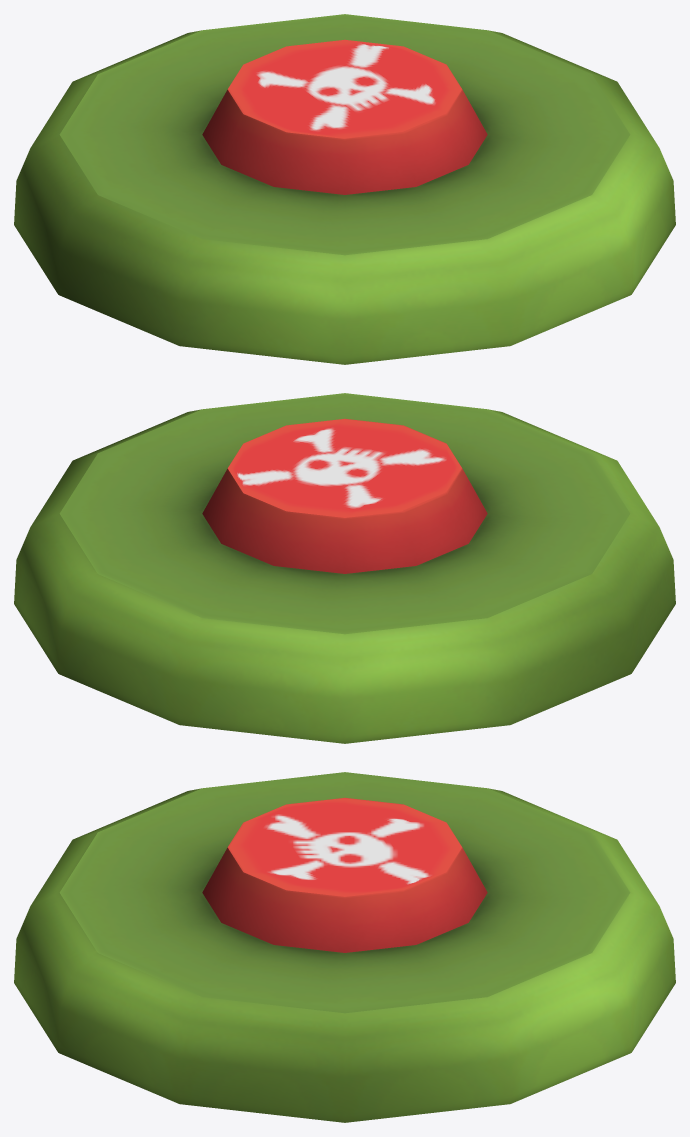
The model's file is mine.fbx.
3 views of the same model, one above another, from view 1: azimuth 30°, elevation 25°; view 2: azimuth 150°, elevation 25°; view 3: azimuth 270°, elevation 25° (orthographic).
Parts seen in each view (by area): view 1: Cylinder.012; view 2: Cylinder.012; view 3: Cylinder.012.
Boxes of the visible parts, x1,y1,x2,y2 form: Cylinder.012: (14,14,675,364); Cylinder.012: (14,393,675,743); Cylinder.012: (14,772,675,1122).
Bounding box in the file's own units: 200 × 45.26 × 200.
